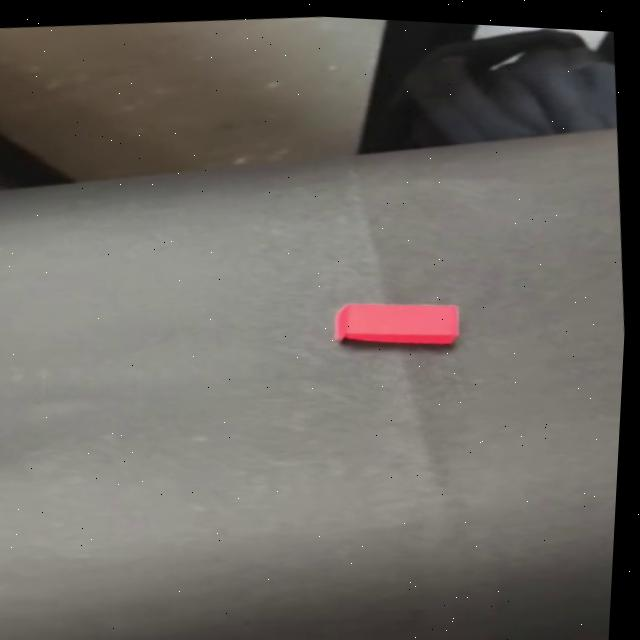red block: (328, 290, 464, 354)
